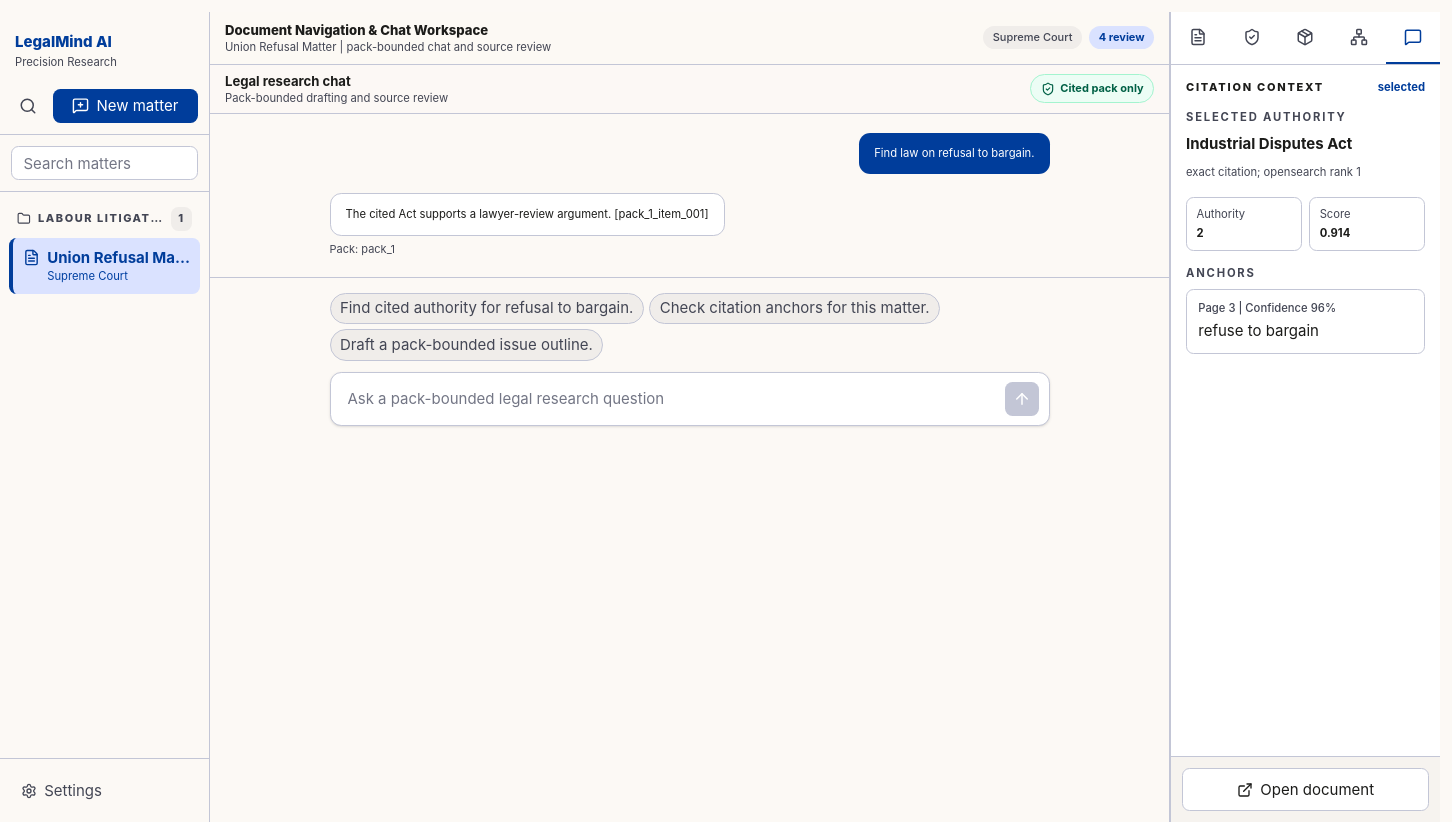
Test: CaseWorkspace › uses template chat suggestions as real input actions
Click the button "Check citation anchors for this matter." at coordinates (795, 308), box [649,293,940,324]
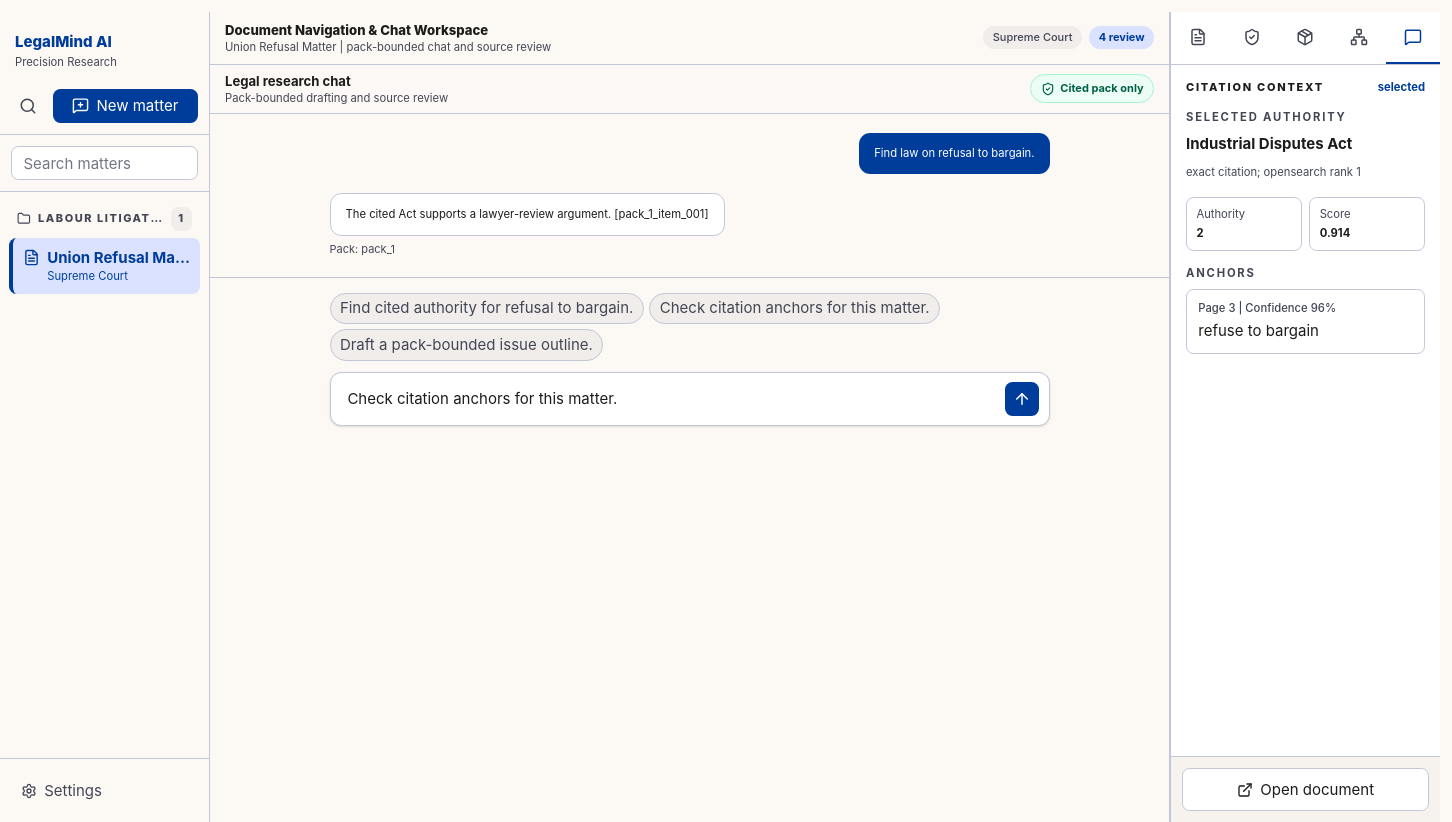
Expected: the text box named "Message" holds "Check citation anchors for this matter.", [340,382,998,416]
